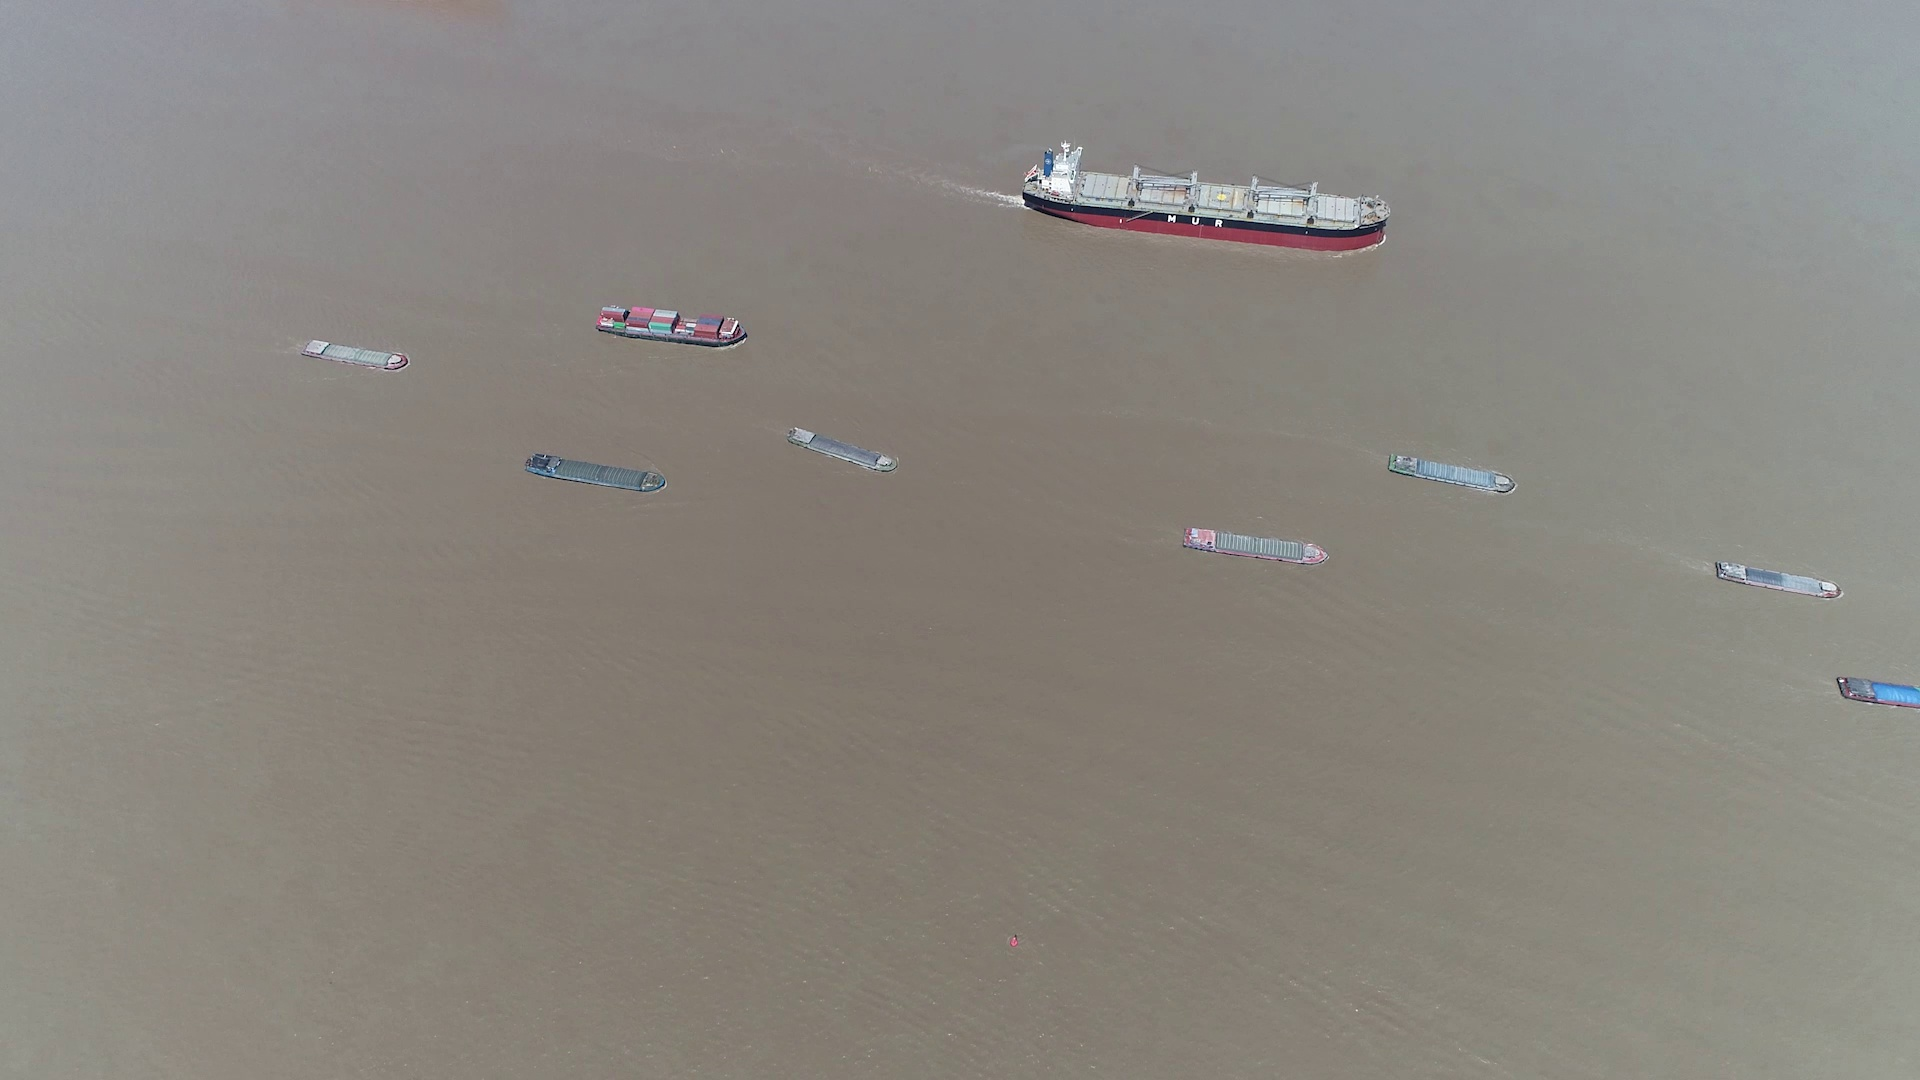ship: (1023, 148, 1389, 249), (596, 305, 749, 347), (525, 454, 666, 495), (1185, 526, 1329, 566), (790, 427, 899, 476), (1390, 454, 1516, 495), (1714, 560, 1840, 597), (301, 338, 409, 373), (1836, 676, 1920, 713)
